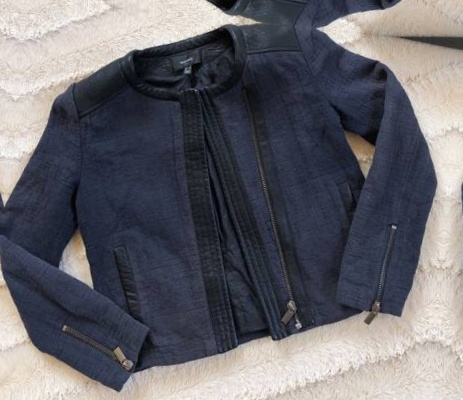Blazer: (0, 4, 454, 400), (29, 0, 463, 37), (436, 49, 463, 400), (0, 0, 21, 376)
